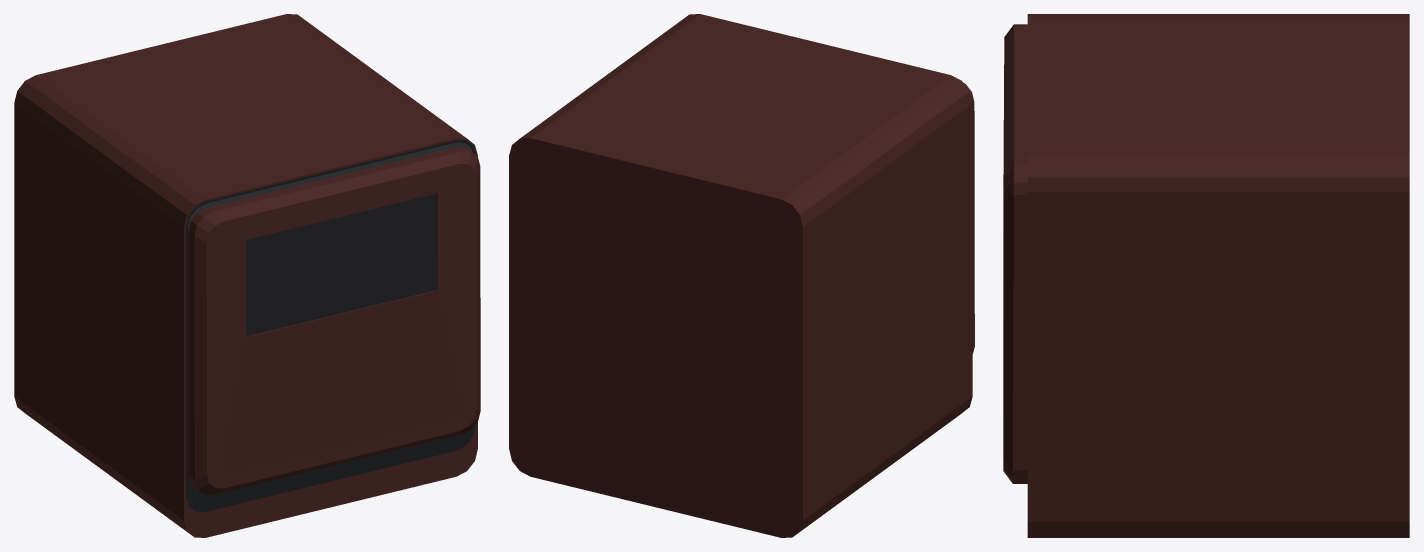
File: Tabledishwasher_01_C.gltf
The picture shows the model from 3 angles, left to right: view 1: azimuth 30°, elevation 25°; view 2: azimuth 150°, elevation 25°; view 3: azimuth 270°, elevation 25°; orthographic projection. The views are drawn at different scales.
Visible parts, largest first — view 1: Tabledishwasher_01_C, DoorTabledishwasher_01_C; view 2: Tabledishwasher_01_C, DoorTabledishwasher_01_C; view 3: Tabledishwasher_01_C, DoorTabledishwasher_01_C.
Boxes of the visible parts, x1=… form: Tabledishwasher_01_C: x1=14, y1=14, x2=477, y2=537; DoorTabledishwasher_01_C: x1=188, y1=147, x2=480, y2=494; Tabledishwasher_01_C: x1=509, y1=14, x2=972, y2=537; DoorTabledishwasher_01_C: x1=964, y1=83, x2=974, y2=353; Tabledishwasher_01_C: x1=1027, y1=14, x2=1409, y2=537; DoorTabledishwasher_01_C: x1=1003, y1=24, x2=1027, y2=483.
Bounding box in the file's own units: 0.5998 × 0.6603 × 0.6381.
1 material, 1 textured.
